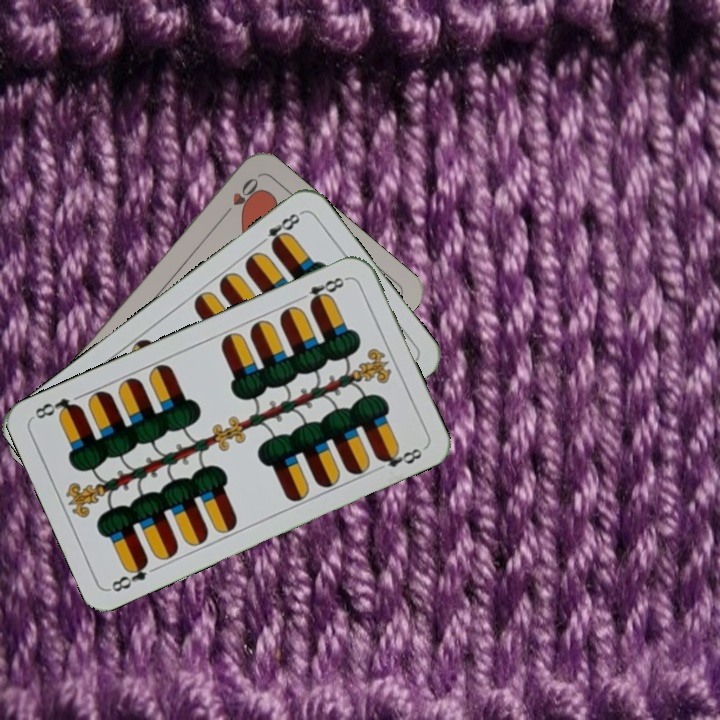E8: (254, 208, 305, 251), (294, 273, 351, 309), (106, 555, 151, 595)
HO: (218, 173, 262, 222)
